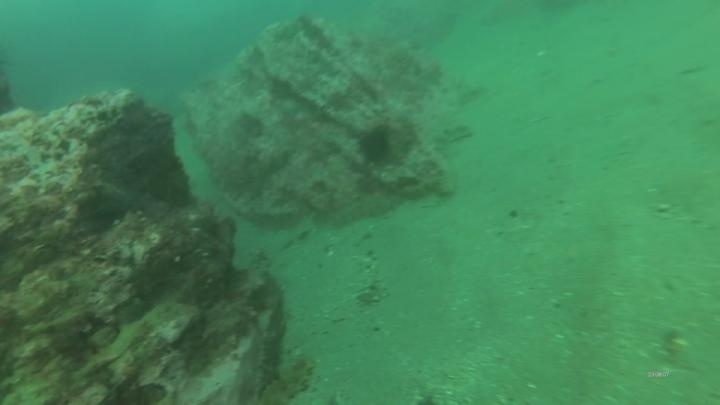echinus: (355, 124, 395, 167)
holothurian: (258, 350, 319, 405), (349, 245, 389, 305)
